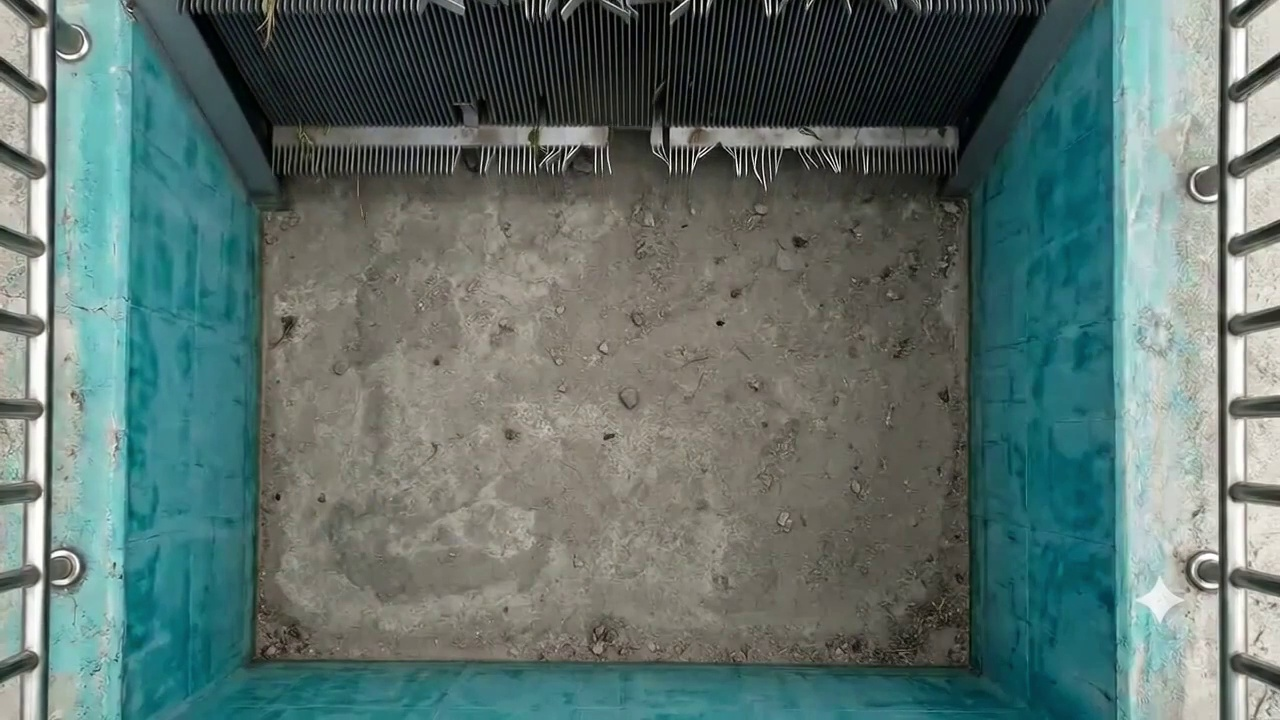damage: (645, 139, 876, 186), (446, 133, 616, 184)
